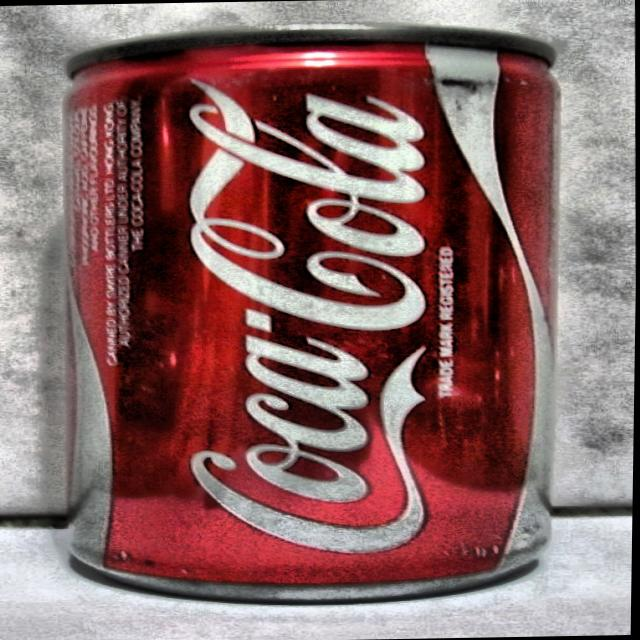Cans: (25, 5, 586, 619)
